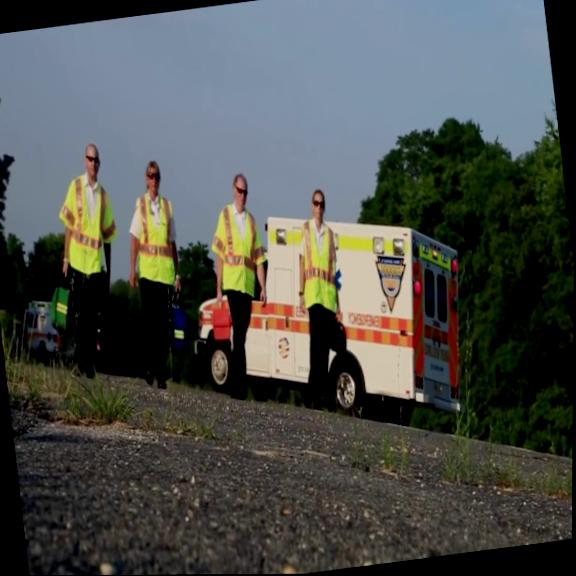safety_vest: (52, 172, 123, 277), (204, 199, 270, 300), (292, 217, 349, 314), (126, 190, 181, 289)
